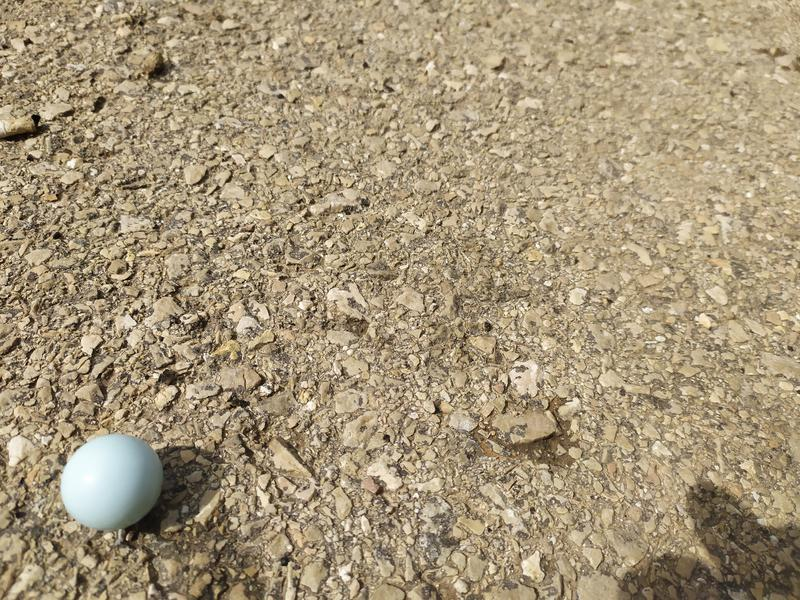Warning: (59, 428, 168, 534)
